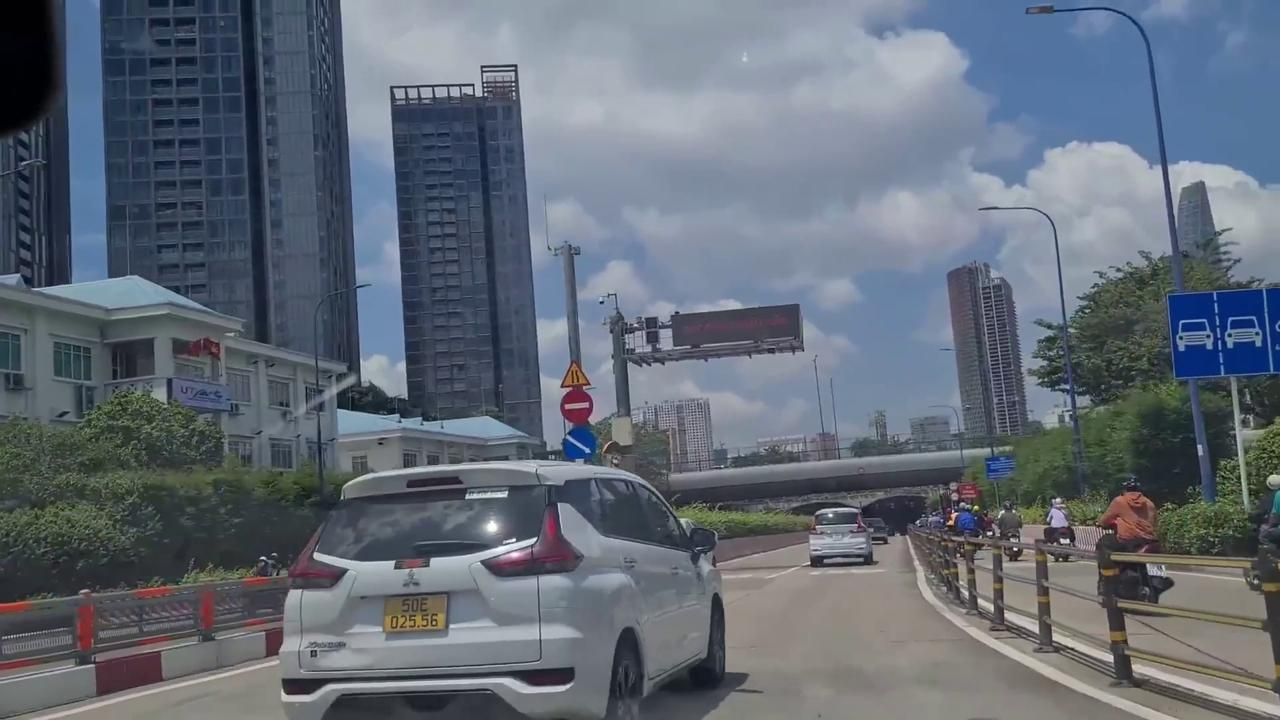Cấm đi ngược chiều: (560, 389, 594, 425)
Hướng phải đi vòng sang phải: (561, 426, 597, 461)
Đuờng hẹp: (559, 360, 592, 388)
